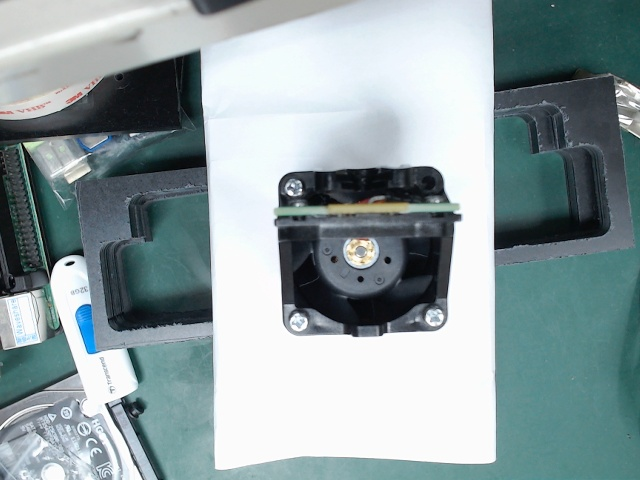Phase1_OK: (240, 148, 473, 351)
